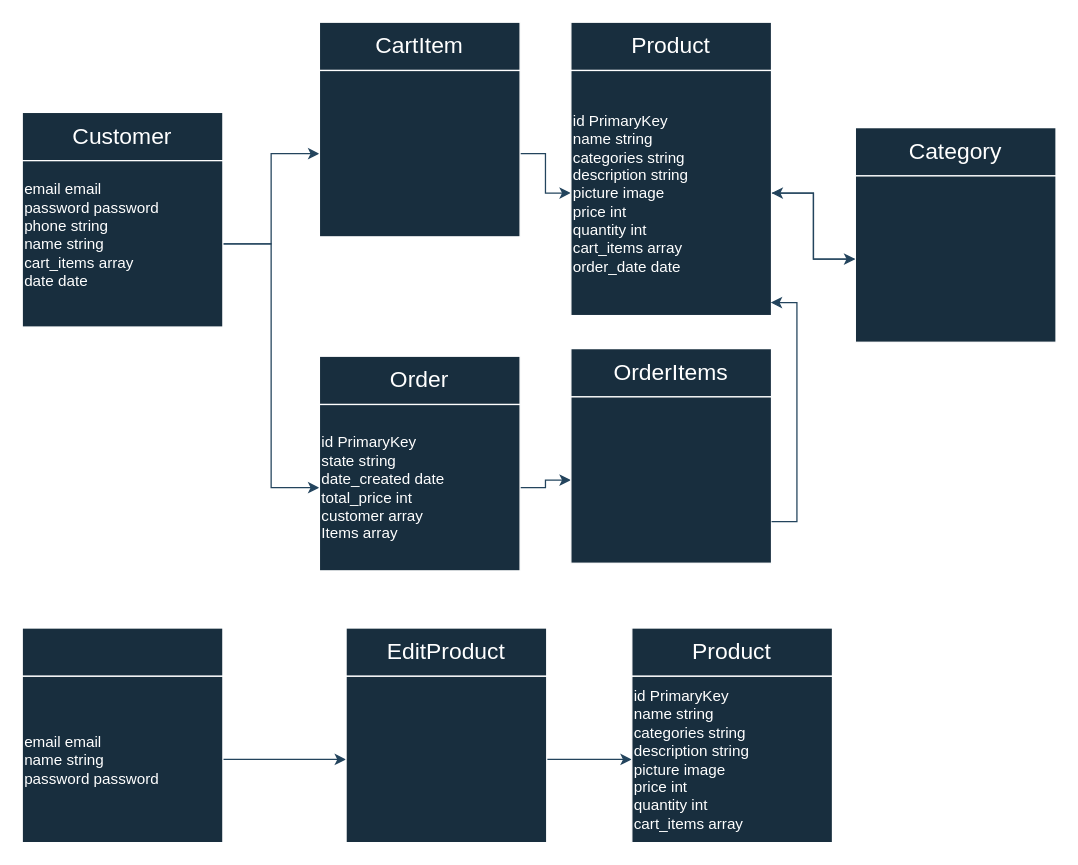
The diagram is 1078 pixels wide and 865 high, and some of its shapes have lost their labels. The shapes that lost their labels are listed below. From the top down, each one's centre as x and y in pixels, then its label:
the point at 419,153: quantity int customer array product array
the point at 955,258: name string products array
the point at 671,479: quantity int price int order PrimaryKey product PrimaryKey
the point at 122,651: Admin
the point at 446,759: date date product array editHistory array
